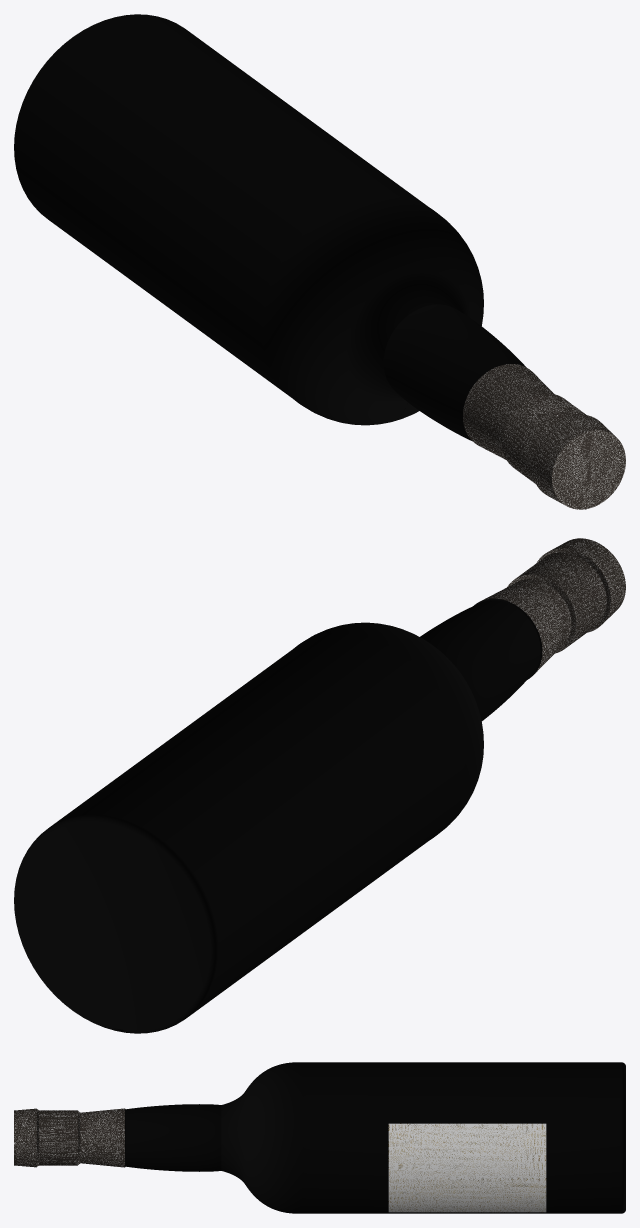
File: model_align.obj
The picture shows the model from 3 angles, top to bottom: view 1: azimuth 30°, elevation 25°; view 2: azimuth 150°, elevation 25°; view 3: azimuth 270°, elevation 25°; orthographic projection. The views are drawn at different scales.
Parts seen in each view (by area): view 1: mesh1_mesh1-geometry; view 2: mesh1_mesh1-geometry; view 3: mesh1_mesh1-geometry.
Part boxes in pixels (x1,y1,x2,y2): mesh1_mesh1-geometry: (14,14,625,509); mesh1_mesh1-geometry: (14,538,625,1033); mesh1_mesh1-geometry: (14,1062,625,1213).
Bounding box in the file's own units: 0.0689 × 0.0689 × 0.278.
